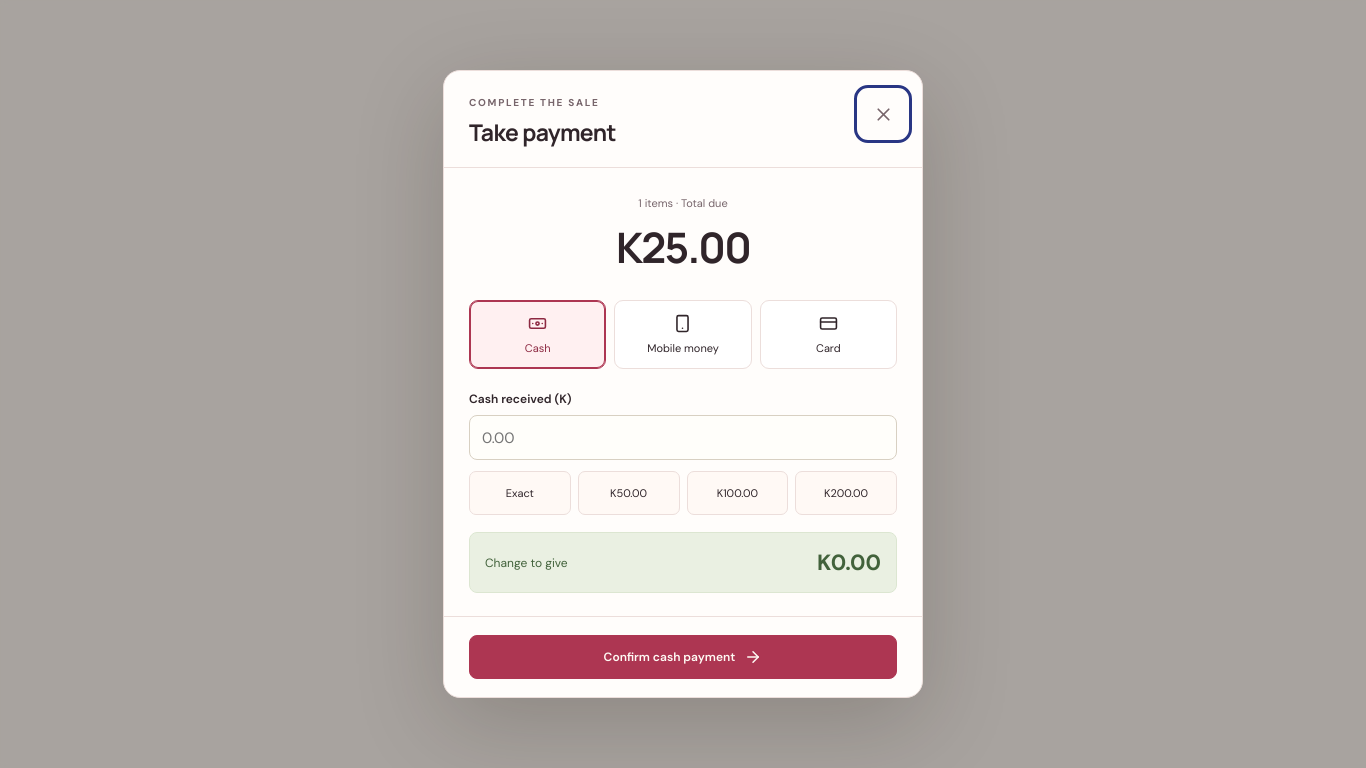
fast payment › submits Card immediately with method only and blocks repeat taps
The image size is (1366, 768).
Expected: the text "K25.00" is shown, [616,218,750,276]
Click the button "Card".
click(828, 334)  # box [760,300,897,369]
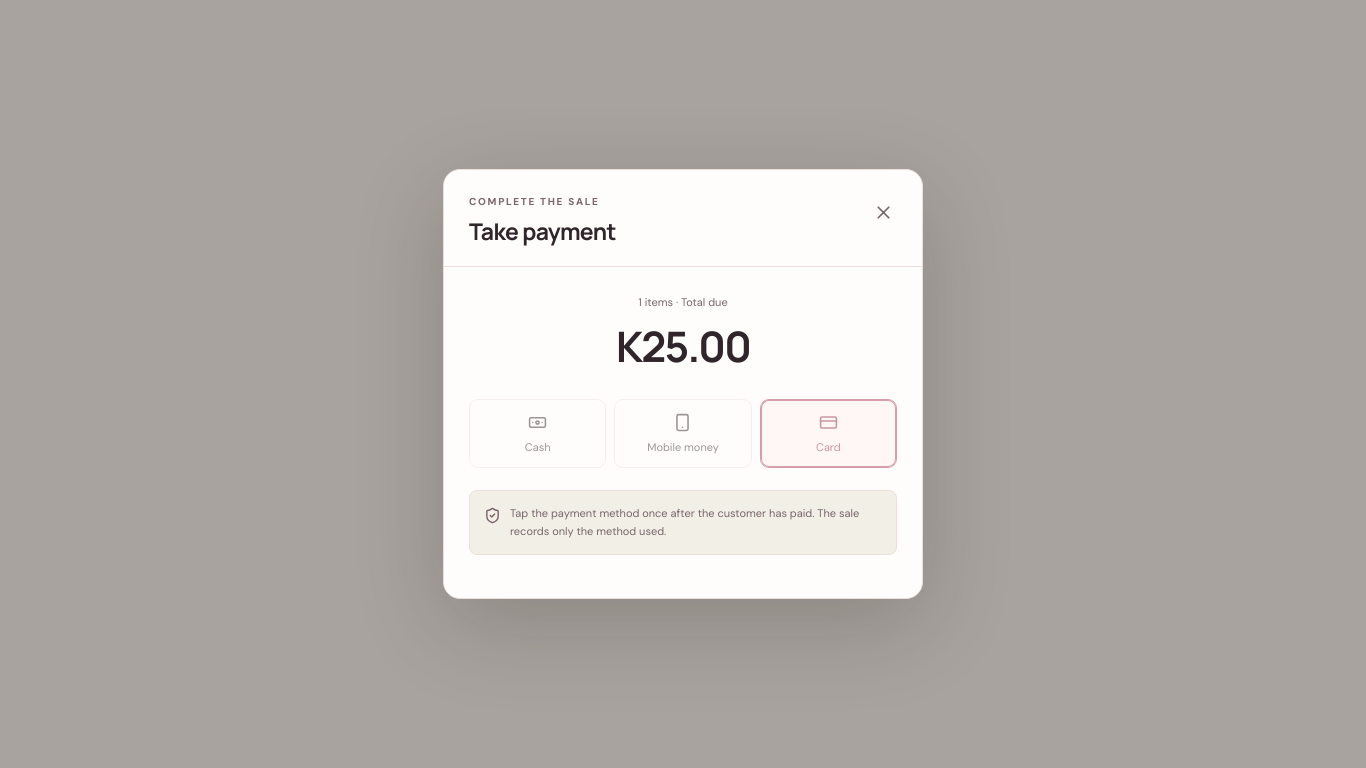
Result: the button "Cash" is disabled at [469,399,606,468]
Result: the button "Mobile money" is disabled at [614,399,752,468]
Result: the button "Card" is disabled at [760,399,897,468]
